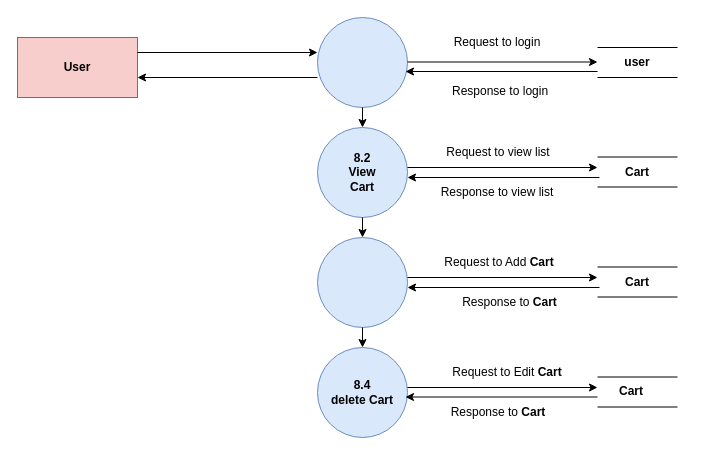
The diagram is 715 pixels wide and 455 high, and some of its shapes have lost their labels. Here are the shapes that lost their labels. From the top down, the centre of each, then its label:
pixel 362 62: 8.1 Login
pixel 362 282: 8.3 Add Cart
